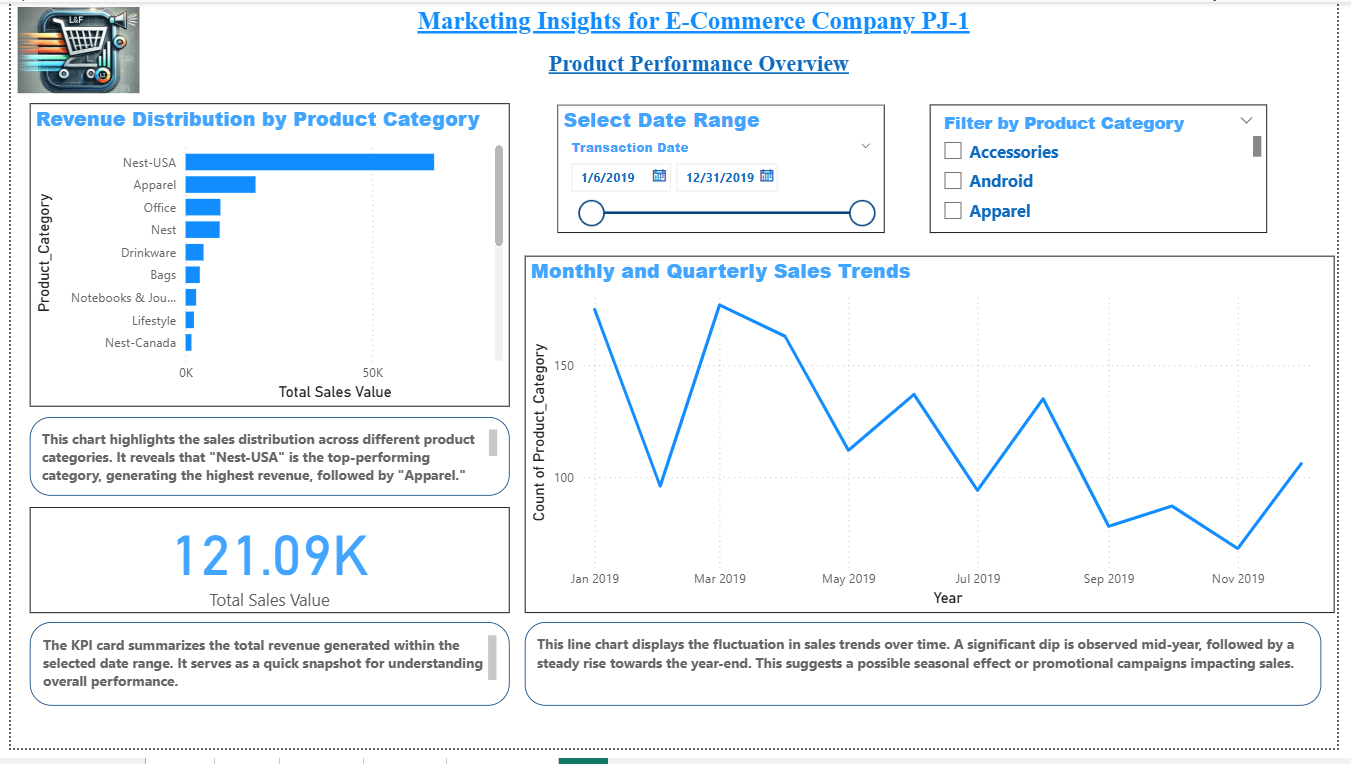

This screenshot's page, from the dashboard's own definition file:
{"tool":"powerbi","page":{"name":"PP","canvas":[1280,720],"ordinal":0},"visuals":[{"type":"textbox","box":[387.3,0,563.4,60.3],"z":0},{"type":"barChart","title":"Revenue Distribution by Product Category","fields":{"Y":["Online_Sales.Total Sales Value"],"Category":["Online_Sales.Product_Category"]},"box":[18.1,97.7,463.3,293.2],"z":1000},{"type":"slicer","title":"Select Date Range","fields":{"Values":["Online_Sales.Transaction_Date"]},"box":[527.2,98.9,316.1,124.3],"z":2000},{"type":"lineChart","title":"Monthly and Quarterly Sales Trends","fields":{"Y":["CountNonNull(Online_Sales.Product_Category)"],"Category":["Online_Sales.Transaction_Date.Variation.Date Hierarchy.Year","Online_Sales.Transaction_Date.Variation.Date Hierarchy.Month"]},"box":[495.8,244.9,781.8,345],"z":3000},{"type":"slicer","fields":{"Values":["Online_Sales.Product_Category"]},"box":[886.7,98.9,325.7,124.3],"z":4000},{"type":"card","fields":{"Values":["Online_Sales.Total Sales Value"]},"box":[18.1,487.4,463.3,102.5],"z":5000},{"type":"textbox","box":[513.9,42.2,308.8,35],"z":6000},{"type":"textbox","box":[18.1,400.5,463.3,76],"z":7000},{"type":"textbox","box":[495.8,598.4,768.5,80.8],"z":8000},{"type":"textbox","box":[18.1,598.4,463.3,80.8],"z":9000},{"type":"image","box":[0,0,130.3,92.9],"z":9001}]}

Visuals, with their boxes in screenshot pixels (x1, y1, x2, y2), scaled from the page's 1280x720 canvas onto the 1351x764 screenshot:
textbox: [left=409, top=0, right=1003, bottom=64]
"Revenue Distribution by Product Category" barChart: [left=19, top=104, right=508, bottom=415]
"Select Date Range" slicer: [left=556, top=105, right=890, bottom=237]
"Monthly and Quarterly Sales Trends" lineChart: [left=523, top=260, right=1348, bottom=626]
slicer - Online_Sales.Product_Category: [left=936, top=105, right=1280, bottom=237]
card - Online_Sales.Total Sales Value: [left=19, top=517, right=508, bottom=626]
textbox: [left=542, top=45, right=868, bottom=82]
textbox: [left=19, top=425, right=508, bottom=506]
textbox: [left=523, top=635, right=1334, bottom=721]
textbox: [left=19, top=635, right=508, bottom=721]
image: [left=0, top=0, right=138, bottom=99]
